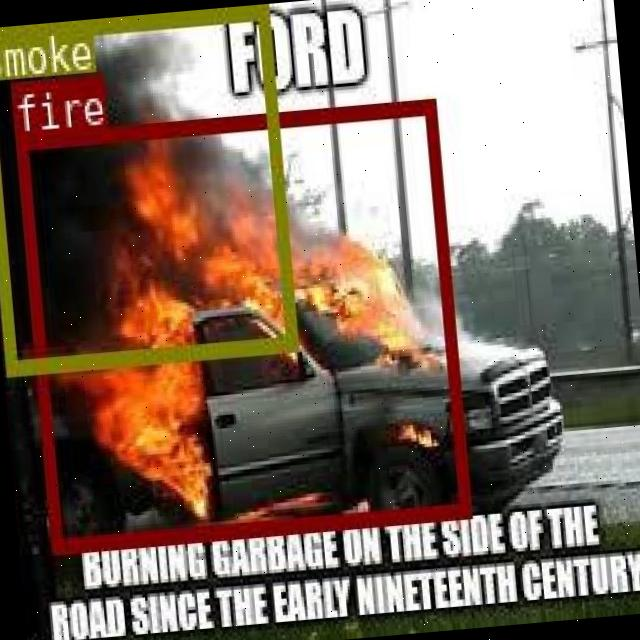fire: (15, 96, 468, 552)
smoke: (0, 3, 296, 373)
